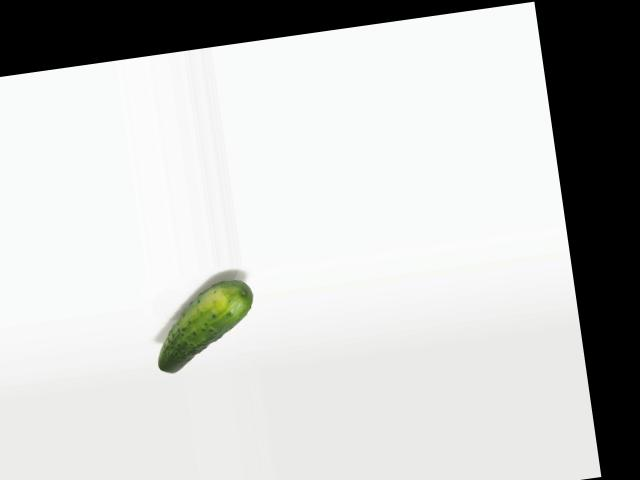cucumber: (147, 278, 260, 374)
